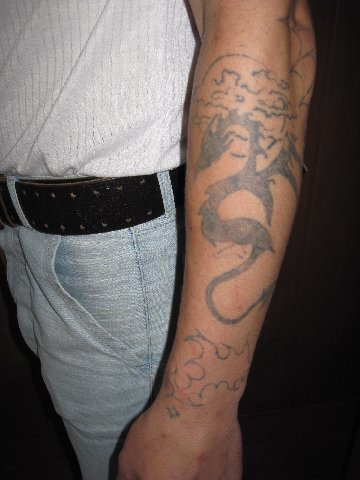tatu6_drakon: (153, 18, 348, 413)
